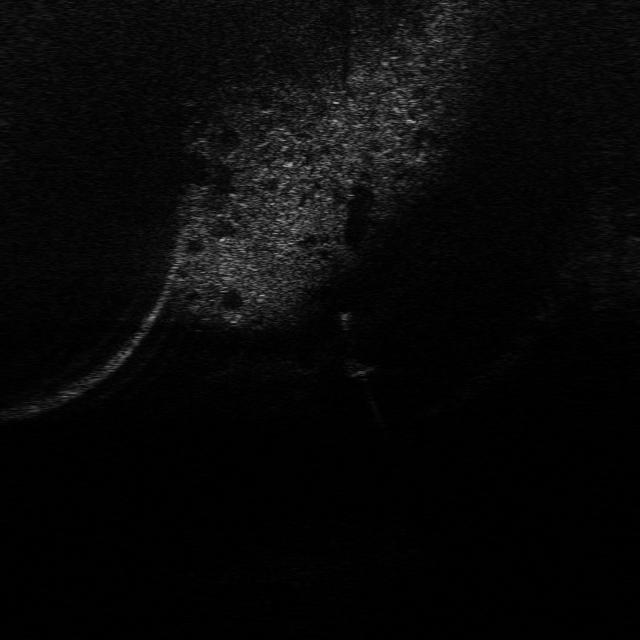cube: (339, 356, 377, 381)
cylinder: (330, 306, 354, 334)
